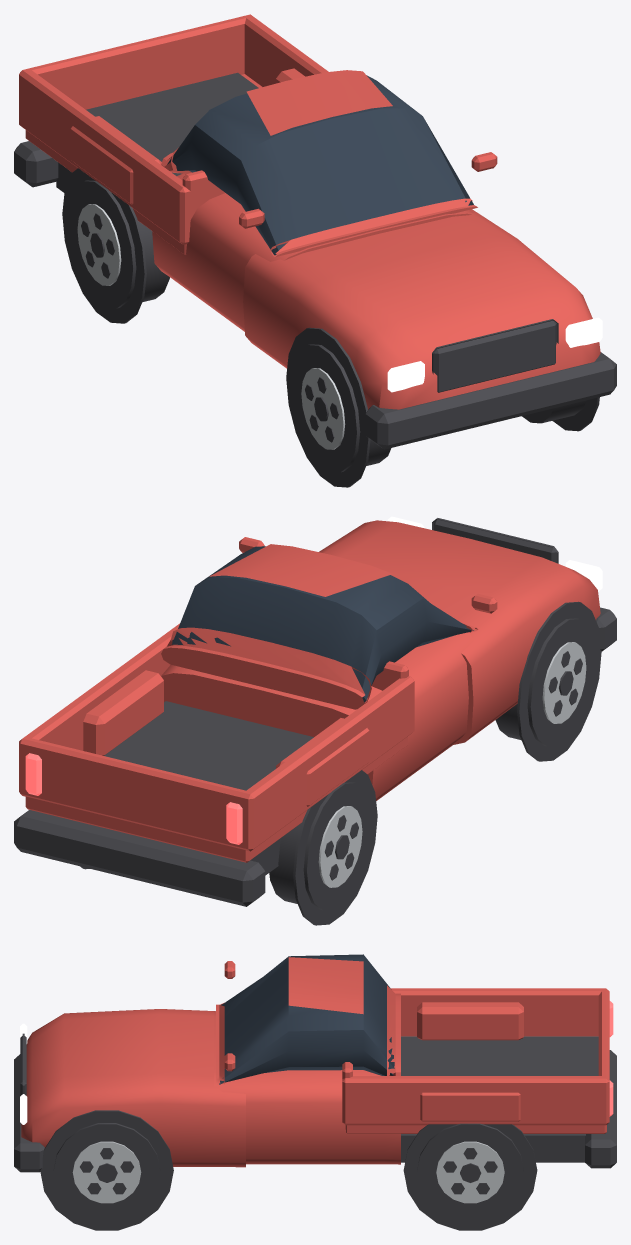
Rendered from car_truck.glb.
The picture shows the model from 3 angles, top to bottom: view 1: azimuth 30°, elevation 25°; view 2: azimuth 150°, elevation 25°; view 3: azimuth 270°, elevation 25°; orthographic projection. The views are drawn at different scales.
Visible parts, largest first — view 1: hood, cabin, tailgate, bumperF, cabbody, bedwall.001, wheel_RR, wheel_FR, bedliner, grille, roof, arch.002 (+11 smaller); view 2: hood, cabin, cabbody, tailgate, bumperR, bedliner, bedwall.001, pillarC, wheel_RR, wheel_FR, roof, bedwall (+10 smaller); view 3: hood, cabin, cabbody, bedwall, wheel_FL, wheel_RL, bedliner, bedwall.001, arch, fender.001, roof, arch.001 (+9 smaller).
Part boxes in pixels (x1,y1,x2,y2): hood: (243, 209, 600, 409); cabin: (167, 75, 473, 255); tailgate: (25, 15, 249, 109); bumperF: (365, 352, 616, 449); cabbody: (152, 173, 473, 331); bedwall.001: (19, 69, 191, 244); wheel_RR: (67, 180, 169, 308); wheel_FR: (291, 344, 391, 472); bedliner: (86, 72, 258, 176); grille: (432, 319, 558, 392); roof: (246, 70, 392, 135); arch.002: (286, 327, 370, 487); hood: (319, 520, 600, 744); cabin: (171, 546, 473, 702); cabbody: (161, 632, 473, 800); tailgate: (21, 737, 249, 849); bumperR: (14, 810, 265, 906); bedliner: (104, 701, 313, 790); bedwall.001: (241, 676, 414, 851); pillarC: (161, 627, 371, 709); wheel_RR: (269, 782, 372, 910); wheel_FR: (495, 618, 596, 746); roof: (209, 544, 392, 596); bedwall: (19, 623, 179, 796); hood: (21, 1009, 245, 1167); cabin: (219, 954, 394, 1084); cabbody: (214, 1011, 400, 1164); bedwall: (342, 1076, 609, 1125); wheel_FL: (53, 1123, 160, 1219); wheel_RL: (417, 1123, 523, 1219); bedliner: (401, 1036, 598, 1075); bedwall.001: (391, 988, 609, 1035); arch: (40, 1110, 173, 1230); fender.001: (417, 1002, 523, 1040); roof: (288, 957, 363, 1014); arch.001: (403, 1124, 537, 1230).
Bounding box in the file's own units: 2.24 × 2.15 × 5.64.
